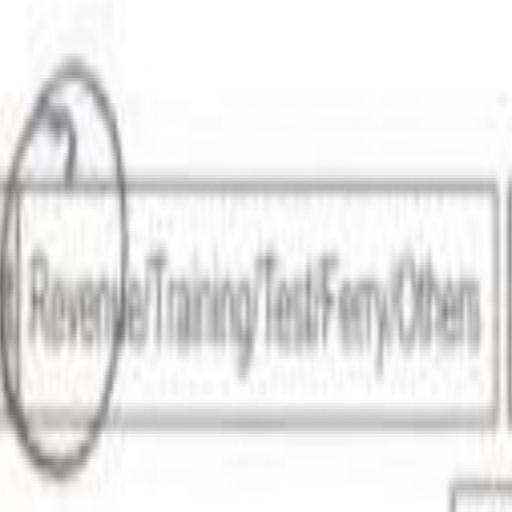check: (19, 88, 138, 470)
